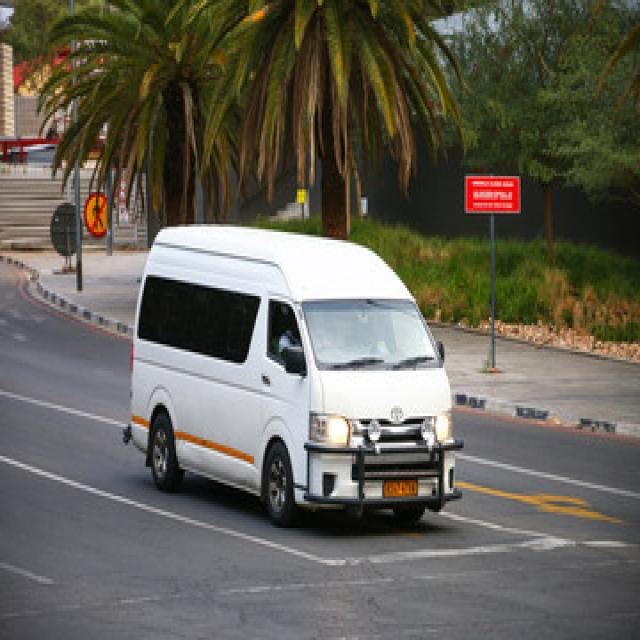van: (123, 227, 460, 523)
